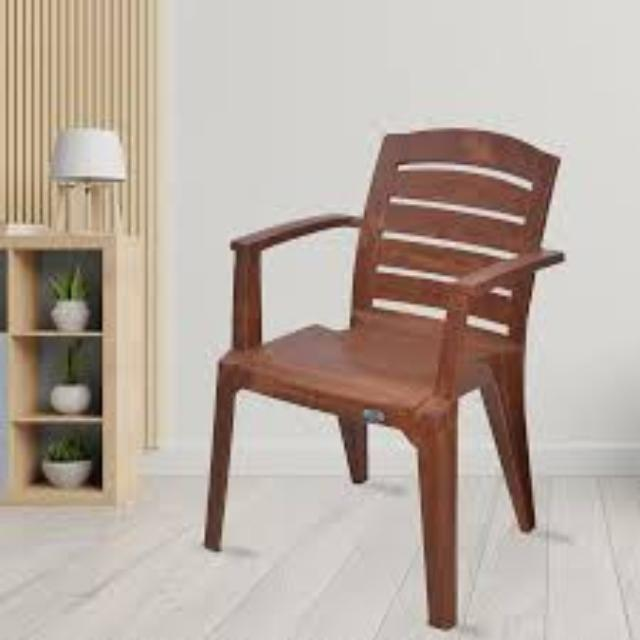obstacle: (185, 56, 590, 640)
